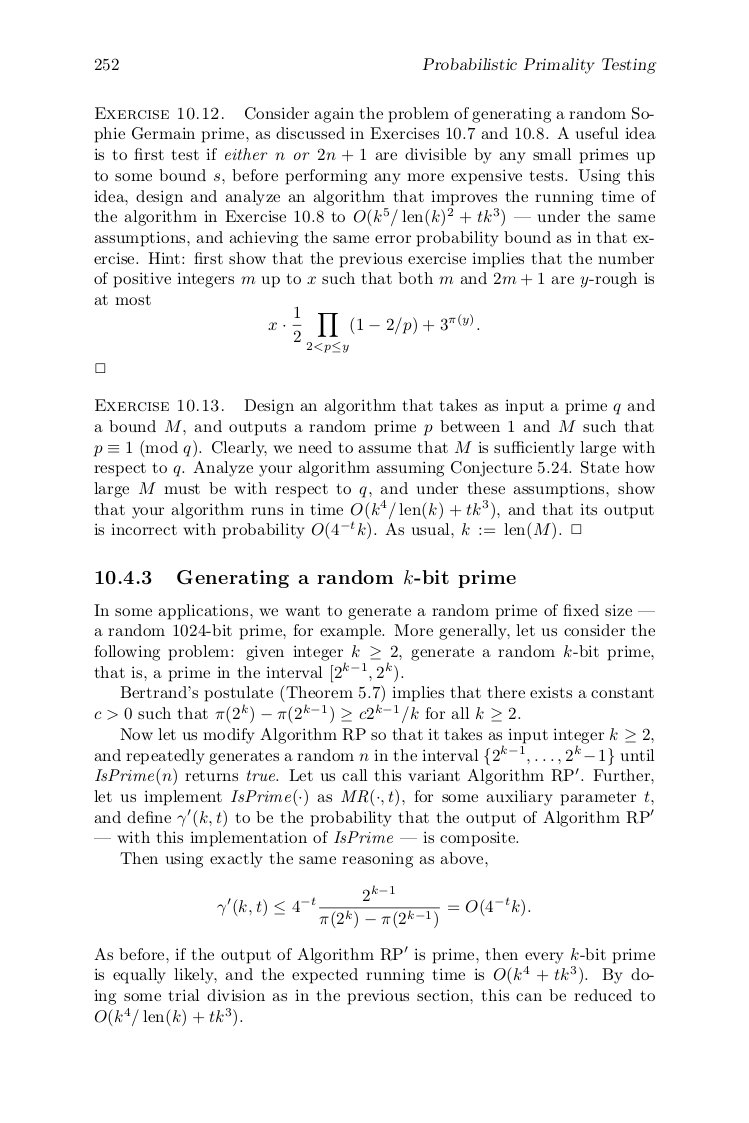formula: (217, 884, 530, 929), (268, 305, 479, 353), (94, 1008, 242, 1026)
